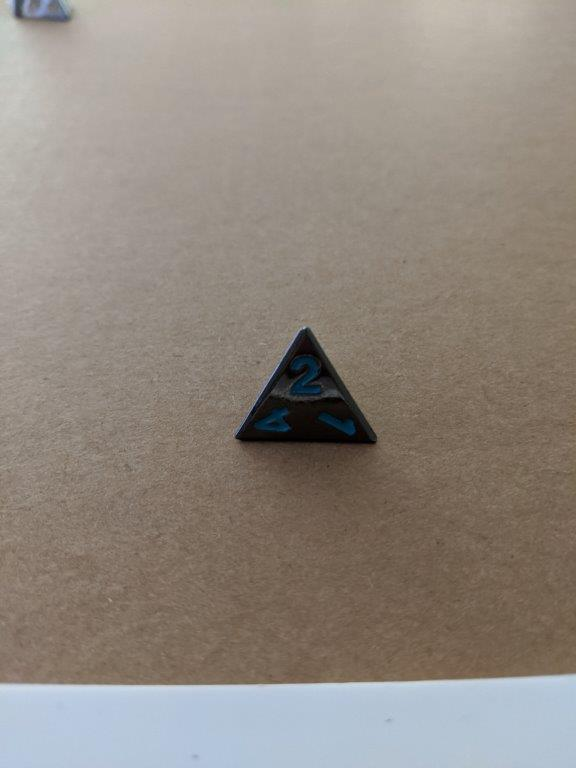d4-2: (234, 324, 382, 452)
